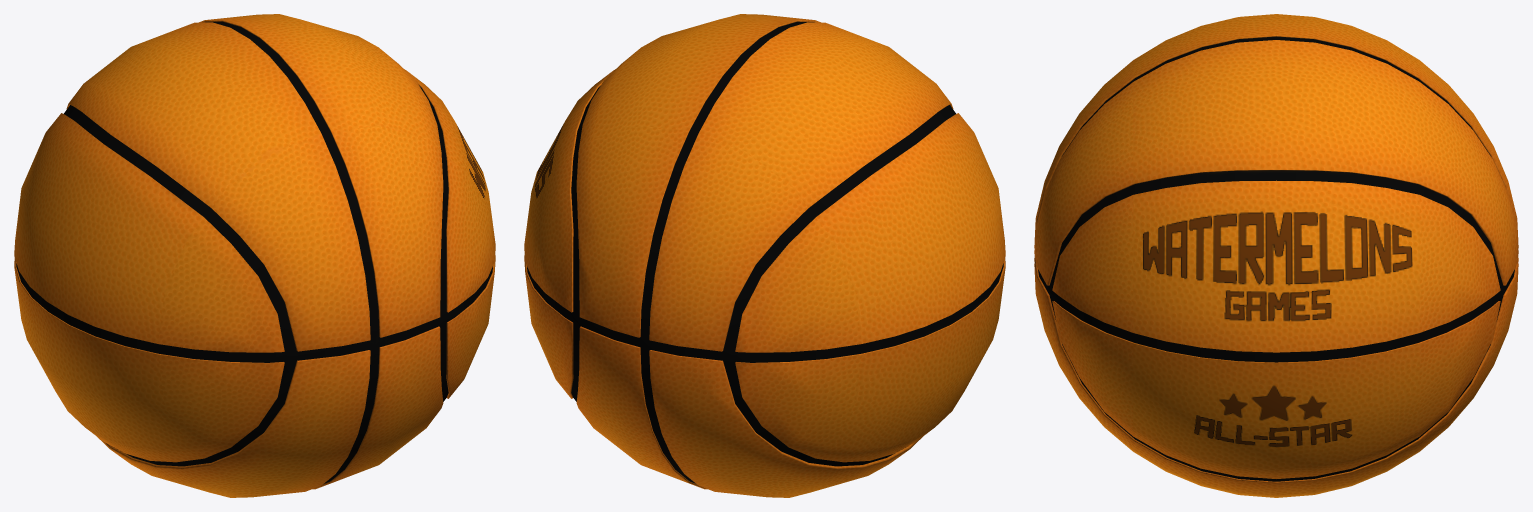
Rendered from Basketball.fbx.
The picture shows the model from 3 angles, left to right: view 1: azimuth 30°, elevation 25°; view 2: azimuth 150°, elevation 25°; view 3: azimuth 270°, elevation 25°; orthographic projection.
Parts seen in each view (by area): view 1: Basketball; view 2: Basketball; view 3: Basketball.
Part boxes in pixels (x1,y1,x2,y2): Basketball: (14,14,495,497); Basketball: (524,14,1005,497); Basketball: (1034,14,1518,497).
Bounding box in the file's own units: 0.587 × 0.587 × 0.5894.
Materials: 1 (1 with a texture image).
